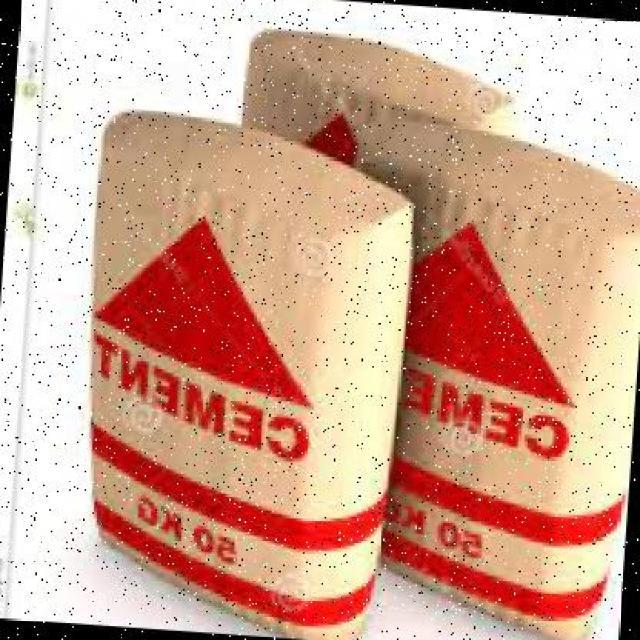gunny_bag: (92, 135, 350, 640), (374, 137, 609, 640), (263, 26, 493, 127)
